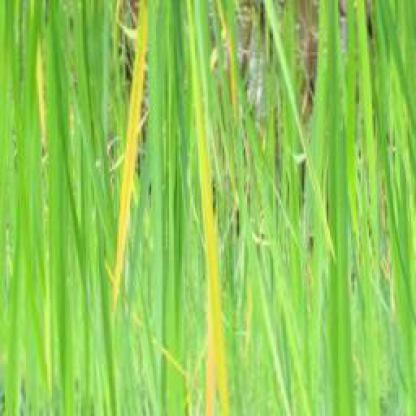Tungro: (189, 5, 229, 411), (111, 4, 152, 305)
